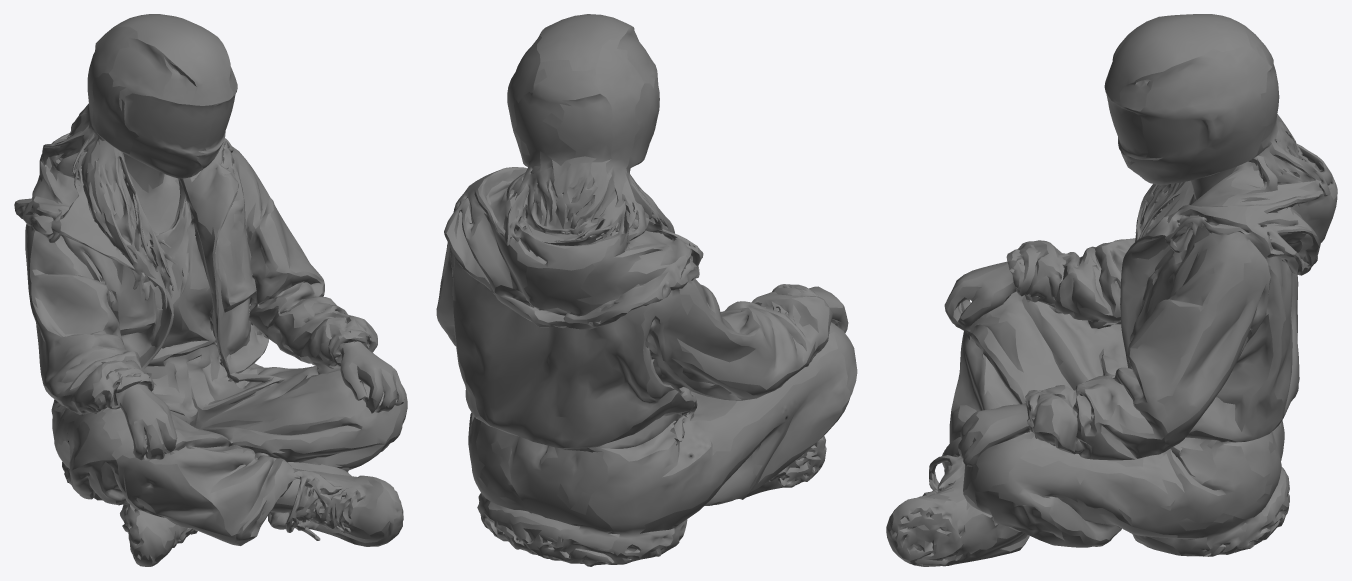
File: completion_2.glb
3 renders of one model, left to right at view 1: azimuth 30°, elevation 25°; view 2: azimuth 150°, elevation 25°; view 3: azimuth 270°, elevation 25°, orthographic. The views are drawn at different scales.
Parts seen in each view (by area): view 1: geometry_0; view 2: geometry_0; view 3: geometry_0.
Part boxes in pixels (box(x1,y1,x2,y2)): geometry_0: box(14, 14, 407, 566); geometry_0: box(436, 14, 857, 566); geometry_0: box(886, 14, 1337, 566).
Bounding box in the file's own units: 0.7584 × 1 × 0.8304.
1 material, 1 textured.
